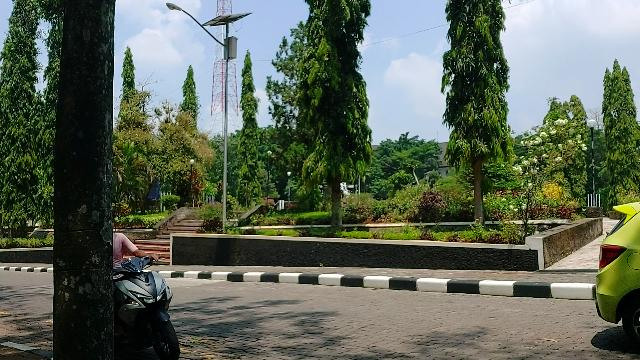helm: (116, 256, 182, 360)
